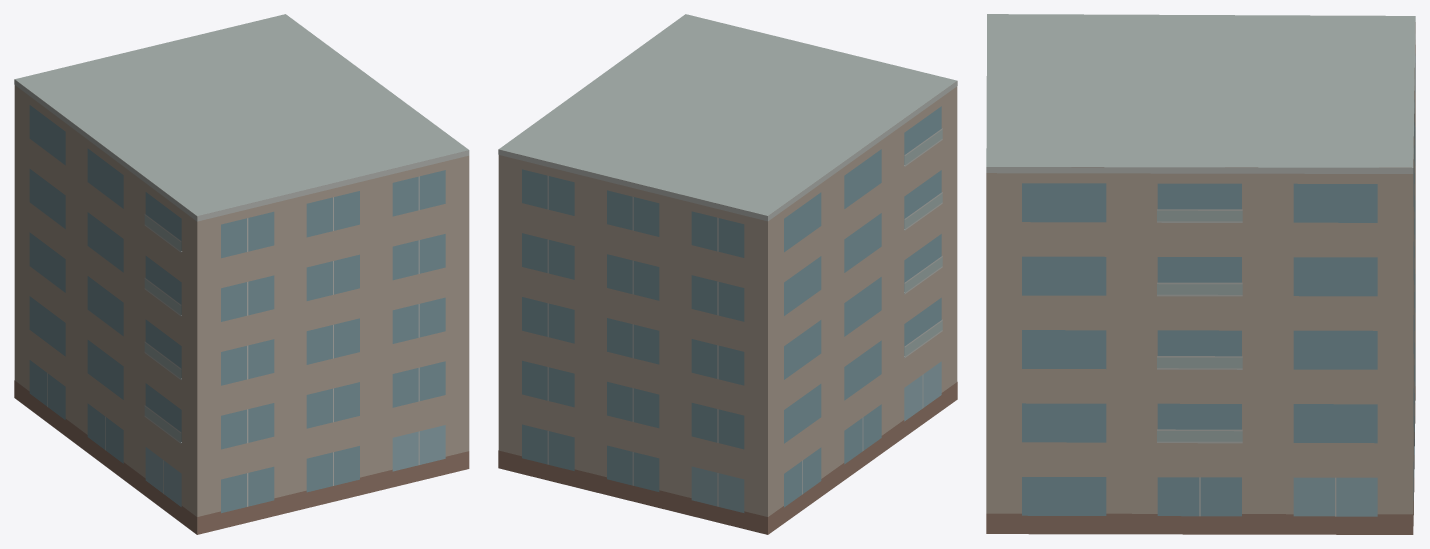
The model's file is survey-upis-32858317.glb.
3 views of the same model, side by side, from view 1: azimuth 30°, elevation 25°; view 2: azimuth 150°, elevation 25°; view 3: azimuth 270°, elevation 25° (orthographic). The views are drawn at different scales.
Parts seen in each view (by area): view 1: survey-upis-32858317.tmp; view 2: survey-upis-32858317.tmp; view 3: survey-upis-32858317.tmp.
Boxes of the visible parts, x1,y1,x2,y2 form: survey-upis-32858317.tmp: (14, 14, 469, 534); survey-upis-32858317.tmp: (498, 14, 957, 534); survey-upis-32858317.tmp: (986, 14, 1415, 534).
Bounding box in the file's own units: 12.88 × 14.3 × 15.16.
